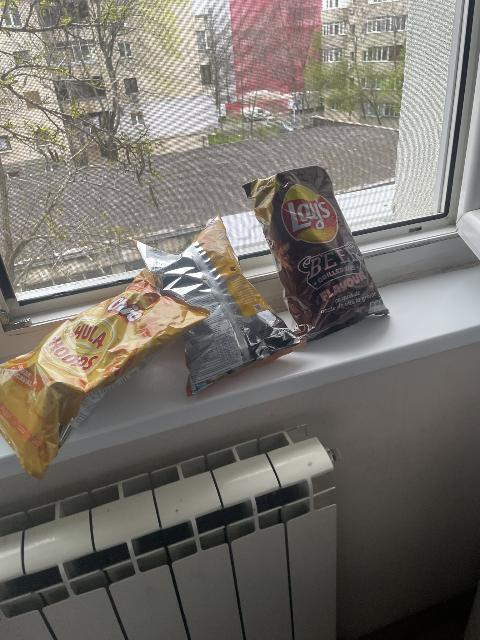Chio Cascaval 125g: (125, 215, 301, 394)
Chio Hula Hoops Cheese 70g: (1, 261, 218, 466)
Lays Beef Grilled Ribs 125g: (245, 165, 389, 338)
